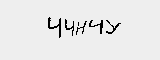Н: (76, 20, 89, 37)
У: (106, 19, 125, 40)
Ч: (47, 15, 63, 40), (62, 19, 76, 41), (88, 19, 105, 35)
